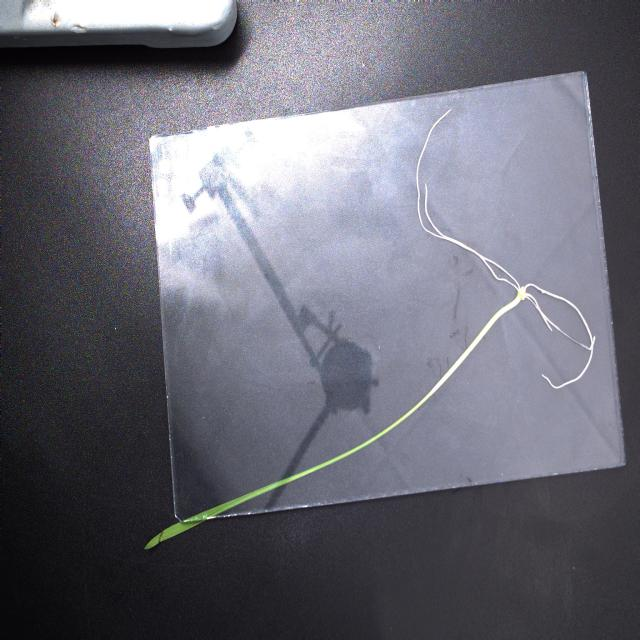leaf: (145, 450, 343, 554)
root: (413, 105, 598, 396)
stem: (343, 299, 516, 464)
